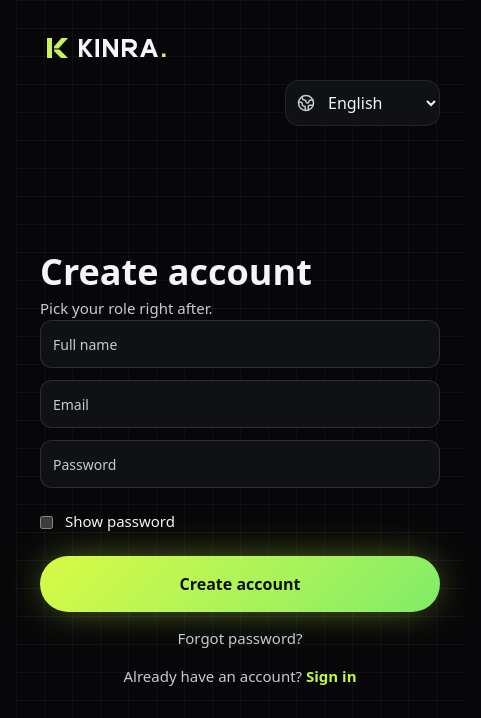
Test: opens explicit up mode and preserves the Business destination when switching
Expected: the heading "Create account" is shown, 40,247 -> 312,296
What coordinates should you click on to do the following:
click the button "Already have an account? Sign in"
I would click on:
 (240, 677)
Its box is 40,666 -> 440,688.
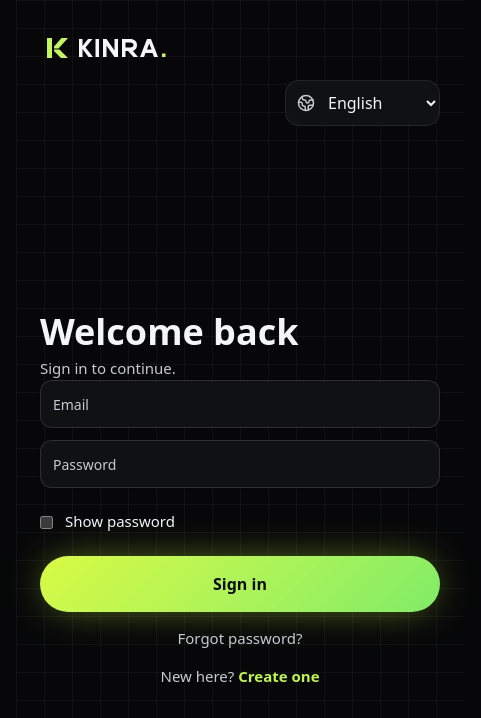
Expected: the heading "Welcome back" is shown, 40,307 -> 298,356
